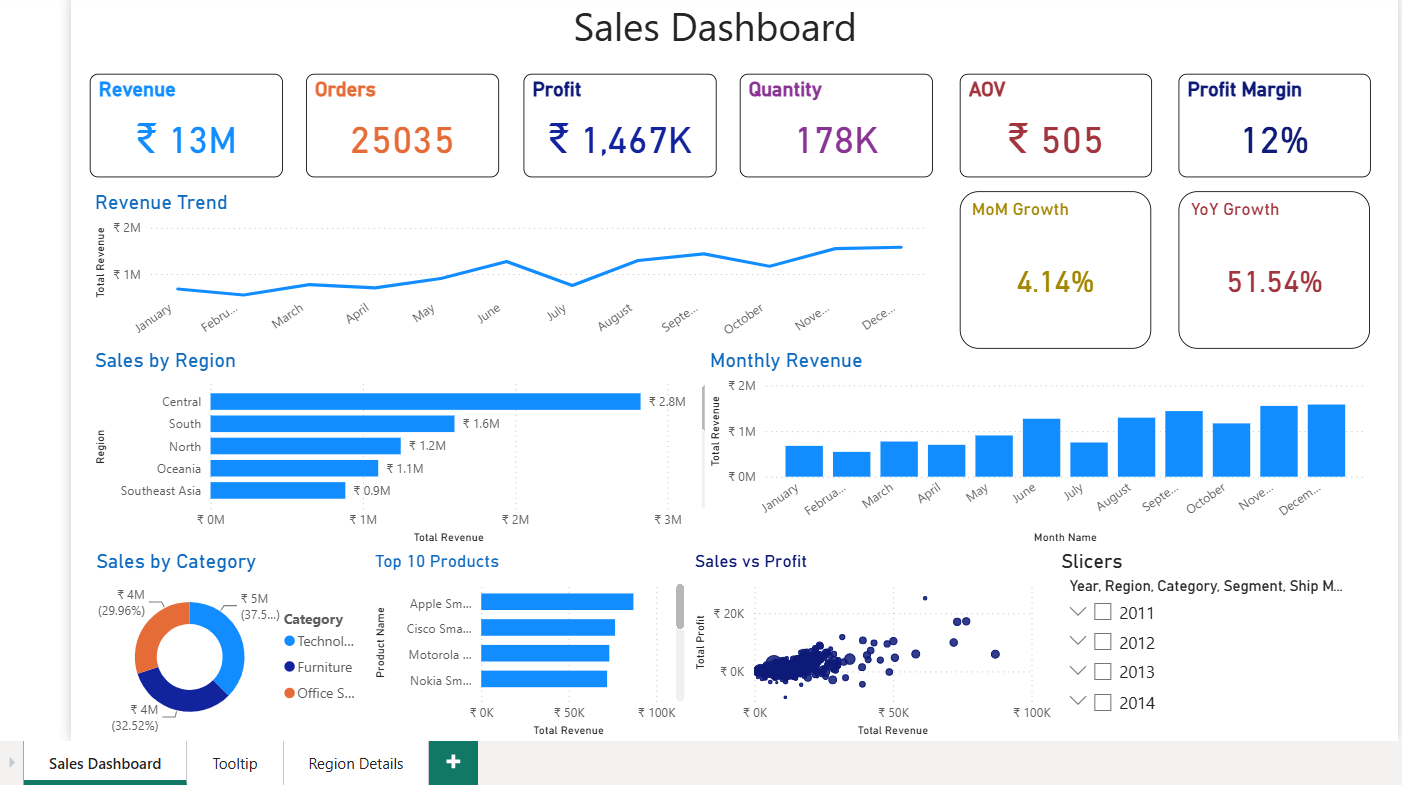

This screenshot's page, from the dashboard's own definition file:
{"tool":"powerbi","page":{"name":"Sales Dashboard","canvas":[1280,720],"ordinal":0},"visuals":[{"type":"textbox","box":[9.6,0,1270.7,96.1],"z":0},{"type":"card","title":"Revenue","fields":{"Values":["superstore.Total Revenue"]},"box":[17.8,75.5,186.6,100.2],"z":1000},{"type":"card","title":"Orders","fields":{"Values":["superstore.Total Orders"]},"box":[226.4,75.5,186.6,100.2],"z":2000},{"type":"card","title":"Profit","fields":{"Values":["superstore.Total Profit"]},"box":[436.4,75.5,186.6,100.2],"z":3000},{"type":"card","title":"Quantity","fields":{"Values":["superstore.Total Quantity"]},"box":[644.9,75.5,186.6,100.2],"z":4000},{"type":"card","title":"AOV","fields":{"Values":["superstore.AOV"]},"box":[857.6,75.5,185.2,100.2],"z":5000},{"type":"card","title":"Profit Margin","fields":{"Values":["superstore.Profit Margin"]},"box":[1069,75.5,185.2,100.2],"z":6000},{"type":"lineChart","title":"Revenue Trend","fields":{"Category":["Calendar.Month Name"],"Y":["superstore.Total Revenue"]},"box":[17.8,189.4,813.7,152.3],"z":7000},{"type":"clusteredBarChart","title":"Sales by Region","fields":{"Category":["superstore.Region"],"Y":["superstore.Total Revenue"]},"box":[17.8,341.7,603.8,193.5],"z":8000},{"type":"donutChart","title":"Sales by Category","fields":{"Category":["superstore.Category"],"Y":["superstore.Total Revenue"]},"box":[19.2,535.2,269,185.2],"z":9000},{"type":"clusteredColumnChart","title":"Monthly Revenue","fields":{"Category":["Calendar.Month Name"],"Y":["superstore.Total Revenue"]},"box":[612,341.7,642.2,193.5],"z":10000},{"type":"clusteredBarChart","title":"Top 10 Products","fields":{"Category":["superstore.Product Name"],"Y":["superstore.Total Revenue"]},"box":[288.2,535.2,308.7,185.2],"z":11000},{"type":"scatterChart","title":"Sales vs Profit","fields":{"X":["superstore.Total Revenue"],"Y":["superstore.Total Profit"],"Size":["superstore.Total Quantity"],"Category":["superstore.Product Name"]},"box":[596.9,535.2,354,185.2],"z":12000},{"type":"slicer","title":"Slicers","fields":{"Values":["superstore.Year","superstore.Region","superstore.Category","superstore.Segment","superstore.Ship Mode"]},"box":[950.9,535.2,303.3,185.2],"z":13000},{"type":"card","title":"MoM Growth","fields":{"Values":["Calendar.MoM Growth %"]},"box":[858,189,185,152],"z":14000},{"type":"card","title":"YoY Growth","fields":{"Values":["Calendar.YoY Growth %"]},"box":[1069,189,185,152],"z":15000}]}

Visuals, with their boxes on the page's 1280x720 design canvas (x1, y1, x2, y2). These are canvas units, not pixel positions in the 1402x785 screenshot, which may show the page scaled, cropped or inside an application window:
textbox: (x1=10, y1=0, x2=1280, y2=96)
"Revenue" card: (x1=18, y1=76, x2=204, y2=176)
"Orders" card: (x1=226, y1=76, x2=413, y2=176)
"Profit" card: (x1=436, y1=76, x2=623, y2=176)
"Quantity" card: (x1=645, y1=76, x2=832, y2=176)
"AOV" card: (x1=858, y1=76, x2=1043, y2=176)
"Profit Margin" card: (x1=1069, y1=76, x2=1254, y2=176)
"Revenue Trend" lineChart: (x1=18, y1=189, x2=832, y2=342)
"Sales by Region" clusteredBarChart: (x1=18, y1=342, x2=622, y2=535)
"Sales by Category" donutChart: (x1=19, y1=535, x2=288, y2=720)
"Monthly Revenue" clusteredColumnChart: (x1=612, y1=342, x2=1254, y2=535)
"Top 10 Products" clusteredBarChart: (x1=288, y1=535, x2=597, y2=720)
"Sales vs Profit" scatterChart: (x1=597, y1=535, x2=951, y2=720)
"Slicers" slicer: (x1=951, y1=535, x2=1254, y2=720)
"MoM Growth" card: (x1=858, y1=189, x2=1043, y2=341)
"YoY Growth" card: (x1=1069, y1=189, x2=1254, y2=341)
